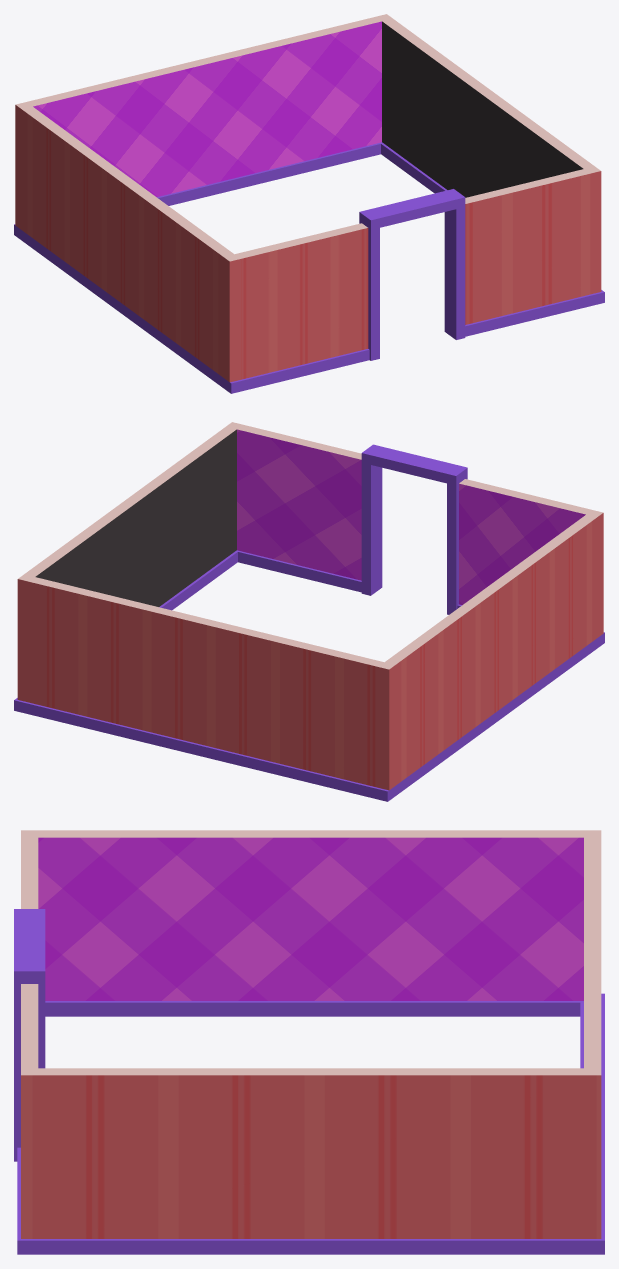
Rendered from VIPrm02_Wall_geo.fbx.
3 views of the same model, one above another, from view 1: azimuth 30°, elevation 25°; view 2: azimuth 150°, elevation 25°; view 3: azimuth 270°, elevation 25° (orthographic). The views are drawn at different scales.
Parts seen in each view (by area): view 1: VIPrm02_Wall_geo; view 2: VIPrm02_Wall_geo; view 3: VIPrm02_Wall_geo.
Part boxes in pixels (x1,y1,x2,y2): VIPrm02_Wall_geo: [14, 14, 604, 393]; VIPrm02_Wall_geo: [14, 422, 604, 801]; VIPrm02_Wall_geo: [14, 830, 604, 1254].
Size of the model in its own units: 6.07 by 6.14 by 2.18.
